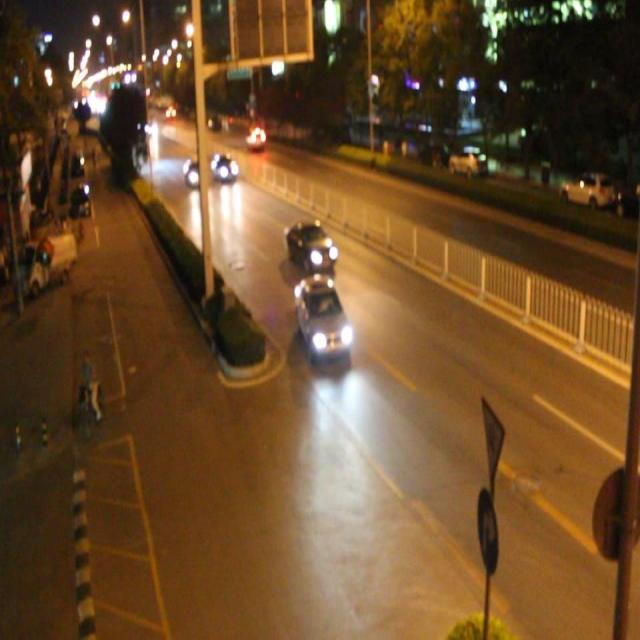car: (293, 277, 352, 361), (284, 218, 336, 270), (210, 150, 238, 182), (182, 158, 211, 188), (243, 123, 266, 151)
